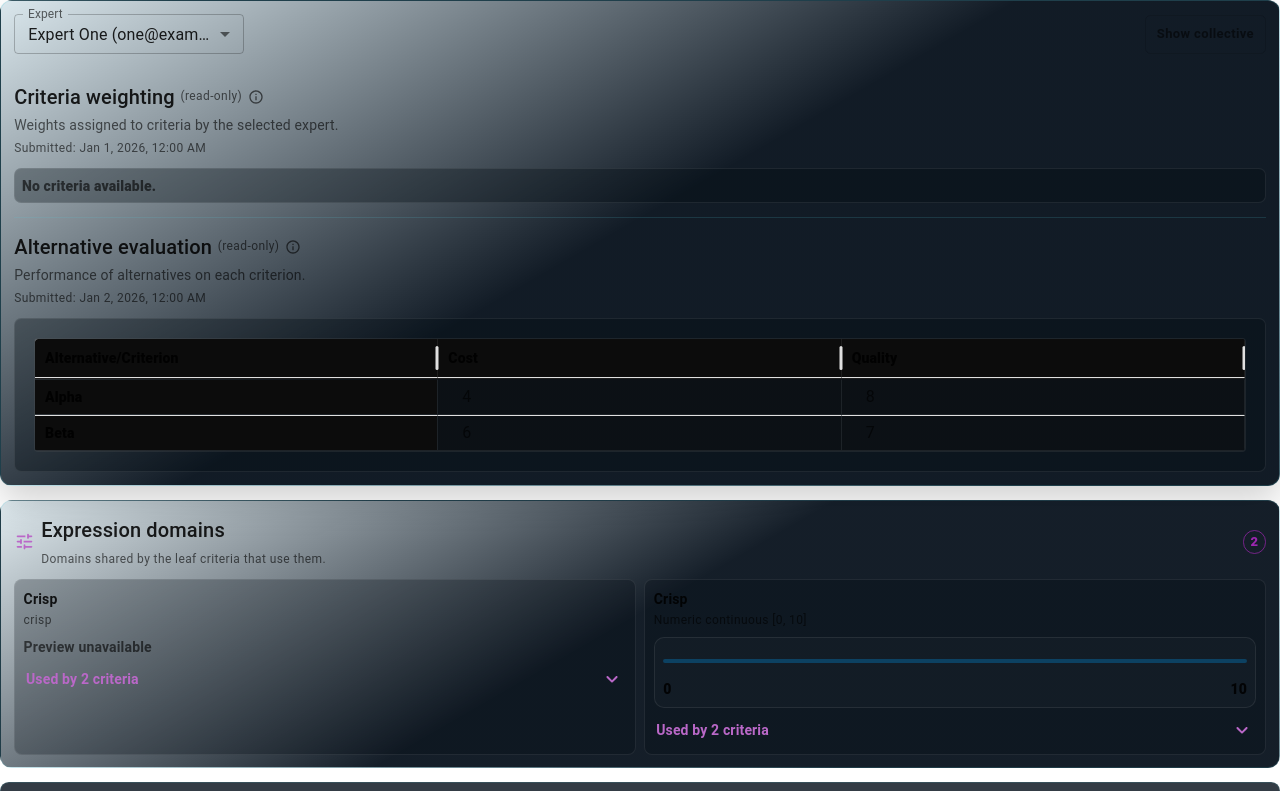
Test case: EvaluationsView › groups expression domains by stable ID in leaf-criterion order
Check: the heading "Expression domains" is shown, box [41,518,225,542]
Check: the text "Crisp" is shown 2 times, box [24,590,57,606]; [654,590,688,606]
Click the button "Used by 2 criteria" below "Preview unavailable".
click(53, 679)  # box [24,664,626,694]
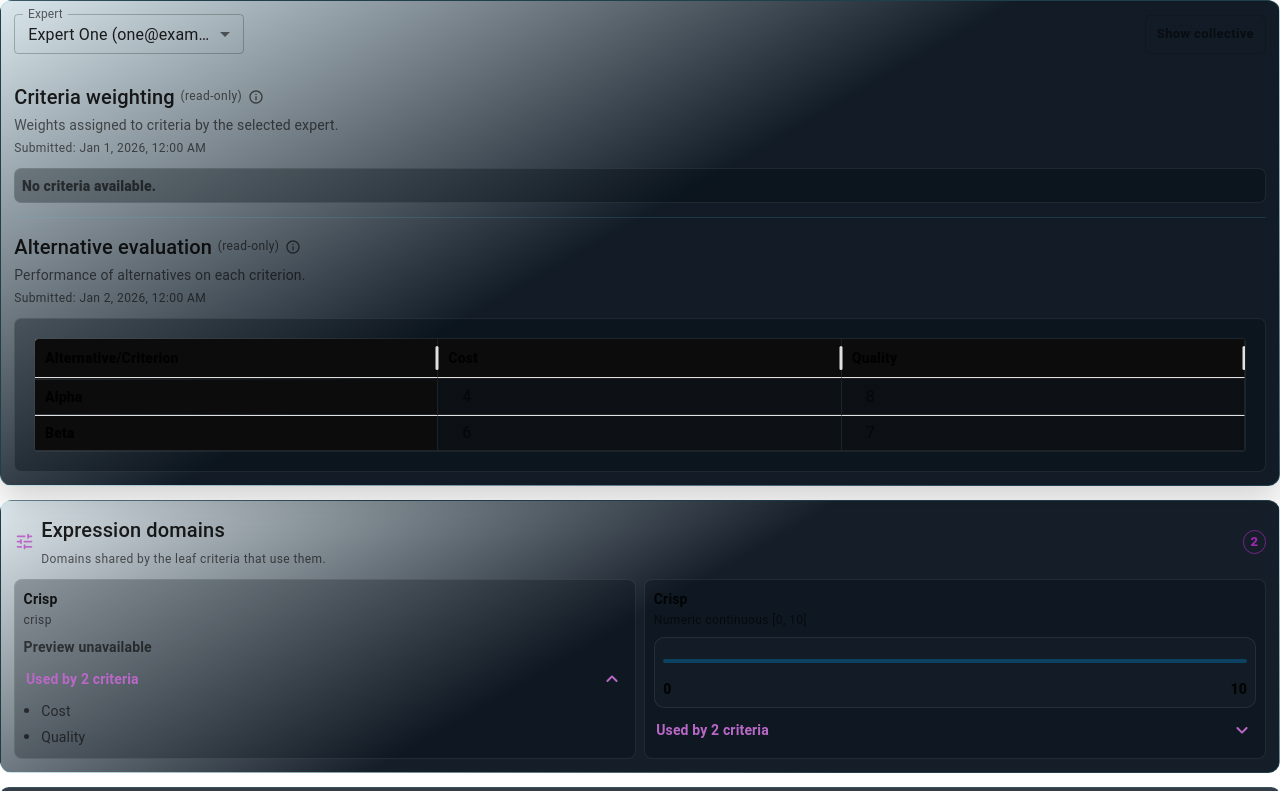
Check: the text "Cost" below "Preview unavailable" is shown, box [41,703,71,719]
Check: the text "Quality" below "Preview unavailable" is shown, box [41,729,85,745]
